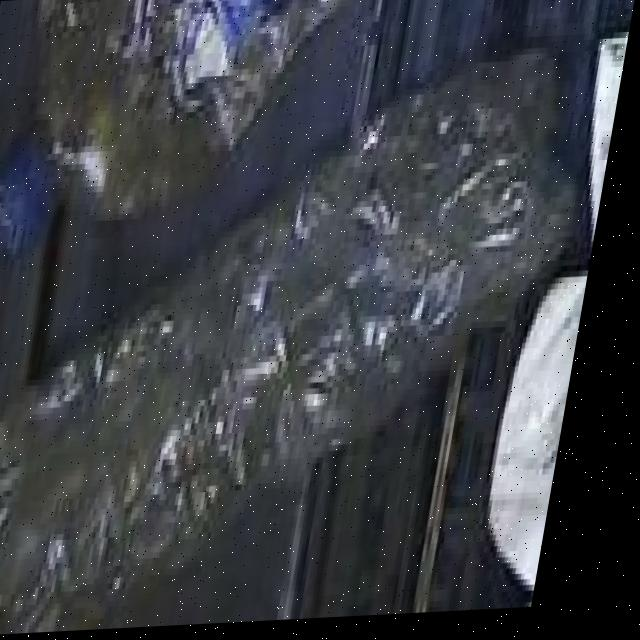litter: (0, 548, 6, 640)
